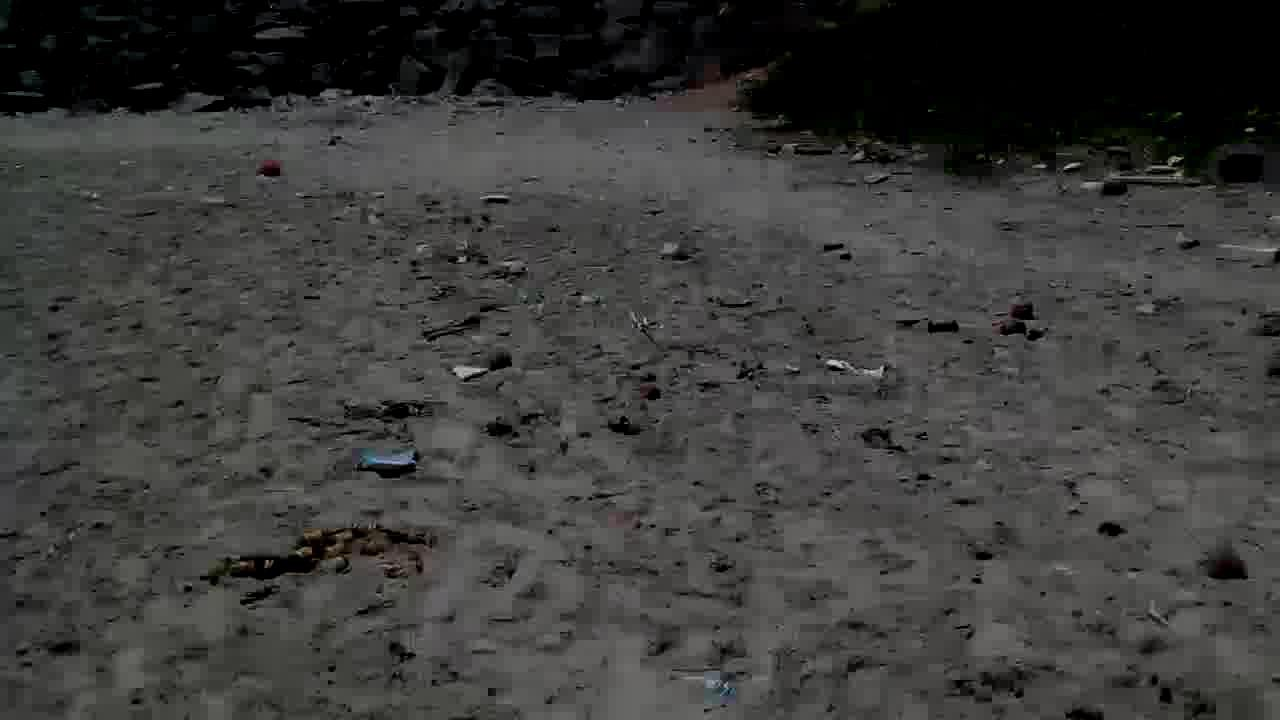obj: (197, 523, 445, 592), (992, 296, 1052, 342), (346, 446, 419, 482), (1184, 544, 1242, 581), (824, 360, 892, 387), (346, 399, 426, 420), (654, 238, 690, 256), (485, 347, 511, 367), (256, 158, 280, 178), (926, 320, 959, 333), (458, 367, 488, 381)
sand/background: (0, 0, 1279, 206)
